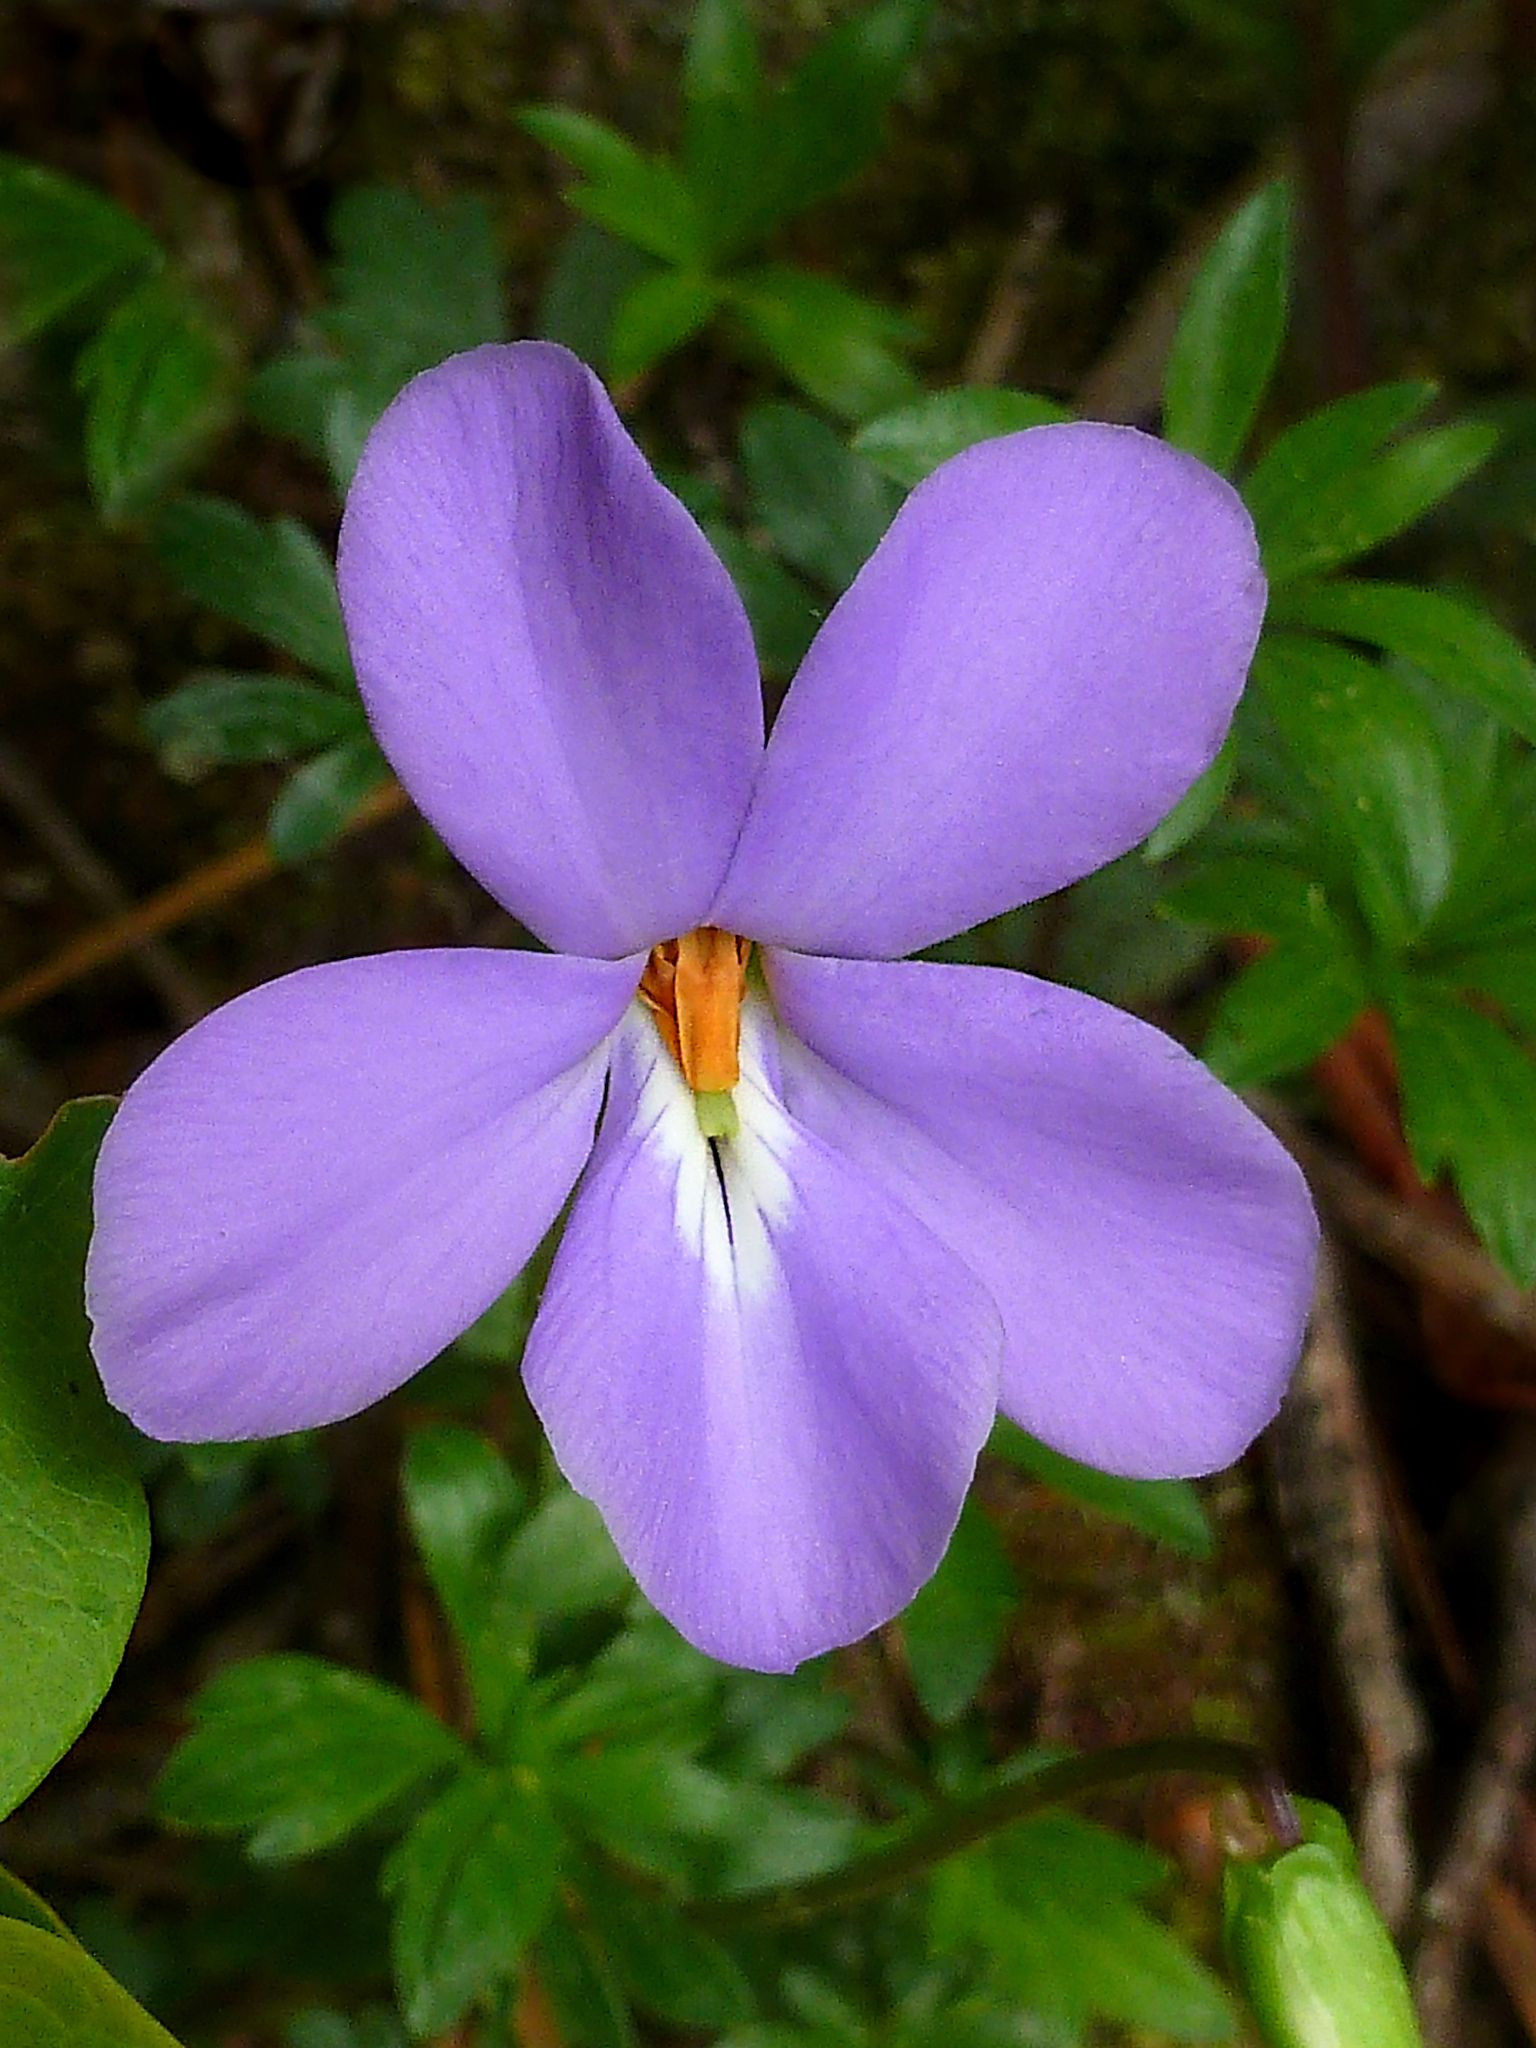violet: (79, 285, 1336, 1674)
